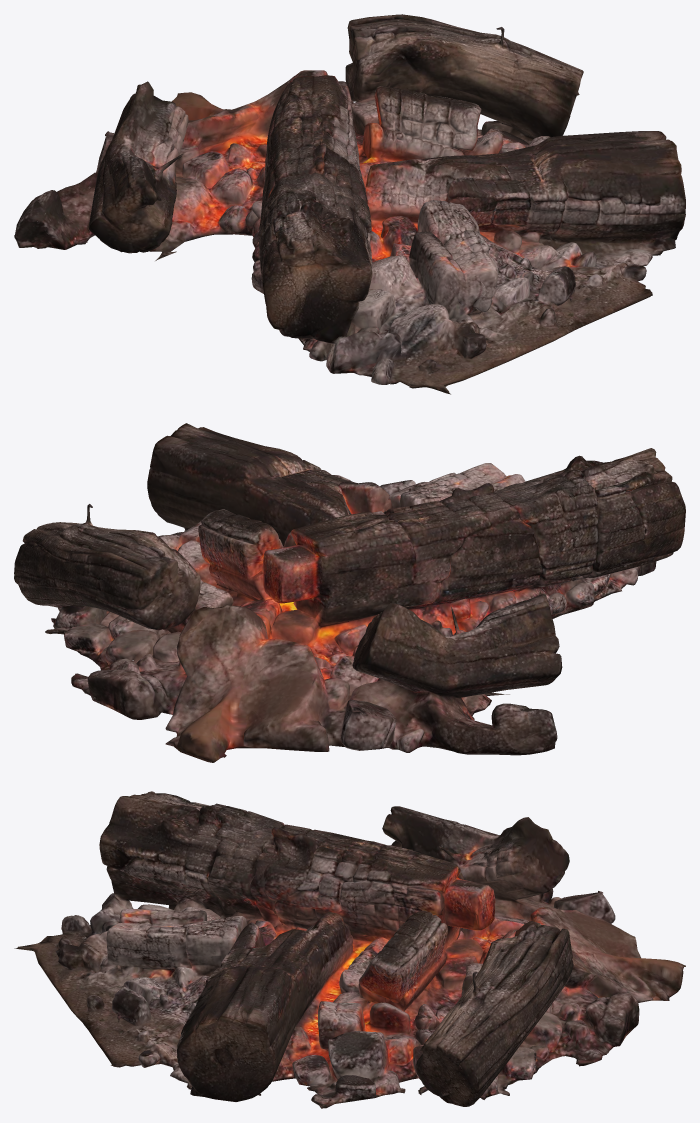
The model's file is tripo-firewood-mobile-v2.glb.
3 renders of one model, top to bottom at view 1: azimuth 30°, elevation 25°; view 2: azimuth 150°, elevation 25°; view 3: azimuth 270°, elevation 25°, orthographic. The views are drawn at different scales.
Visible parts, largest first — view 1: tripo_node_37c32662-7211-471e-a91e-c66adb4b70cd; view 2: tripo_node_37c32662-7211-471e-a91e-c66adb4b70cd; view 3: tripo_node_37c32662-7211-471e-a91e-c66adb4b70cd.
Part boxes in pixels (x1=…): tripo_node_37c32662-7211-471e-a91e-c66adb4b70cd: x1=14, y1=14, x2=685, y2=394; tripo_node_37c32662-7211-471e-a91e-c66adb4b70cd: x1=14, y1=423, x2=685, y2=762; tripo_node_37c32662-7211-471e-a91e-c66adb4b70cd: x1=14, y1=791, x2=685, y2=1108.
Bounding box in the file's own units: 0.8753 × 0.2063 × 0.9855.
1 material, 1 textured.
